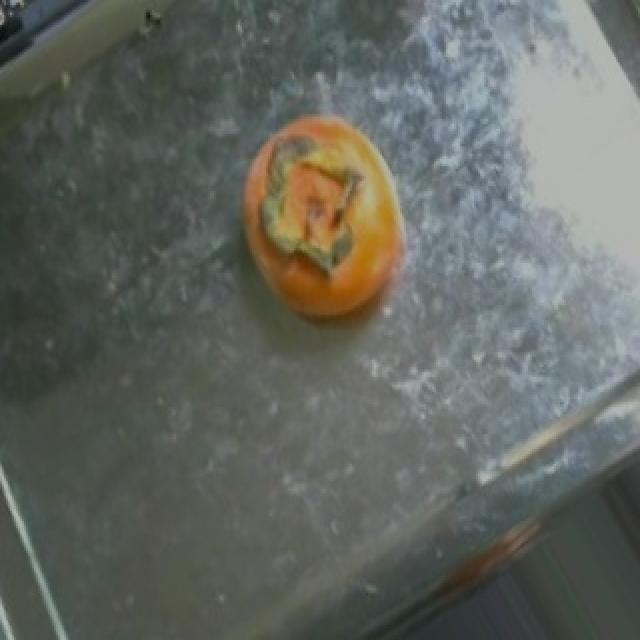Fruit: (216, 107, 432, 347)
